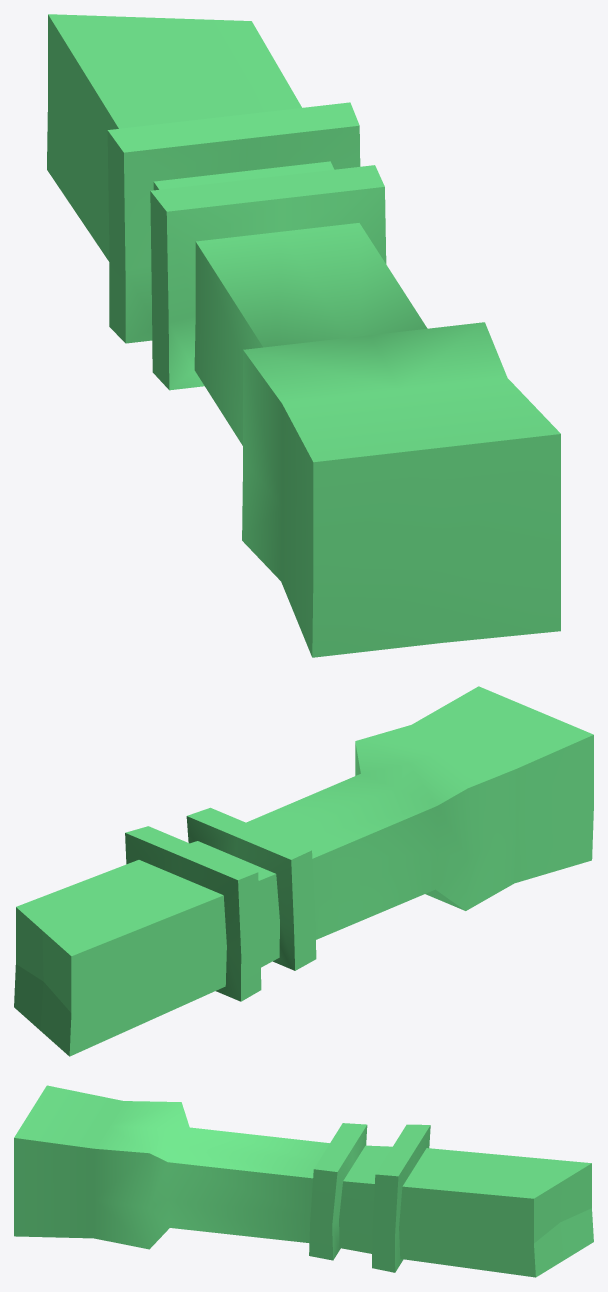
Rendered from Kolumna powalona.fbx.
3 views of the same model, one above another, from view 1: azimuth 30°, elevation 25°; view 2: azimuth 150°, elevation 25°; view 3: azimuth 270°, elevation 25° (orthographic). The views are drawn at different scales.
Visible parts, largest first — view 1: Kolumna_duł_low; view 2: Kolumna_duł_low; view 3: Kolumna_duł_low.
Boxes of the visible parts, left/top/right/bottom form: Kolumna_duł_low: left=47, top=14, right=560, bottom=657; Kolumna_duł_low: left=14, top=686, right=593, bottom=1056; Kolumna_duł_low: left=14, top=1085, right=593, bottom=1277.
Size of the model in its own units: 314 by 144 by 739.
